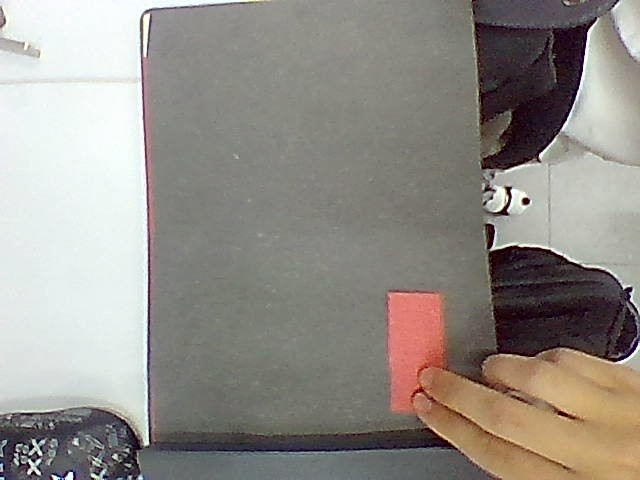card: (388, 292, 445, 412)
